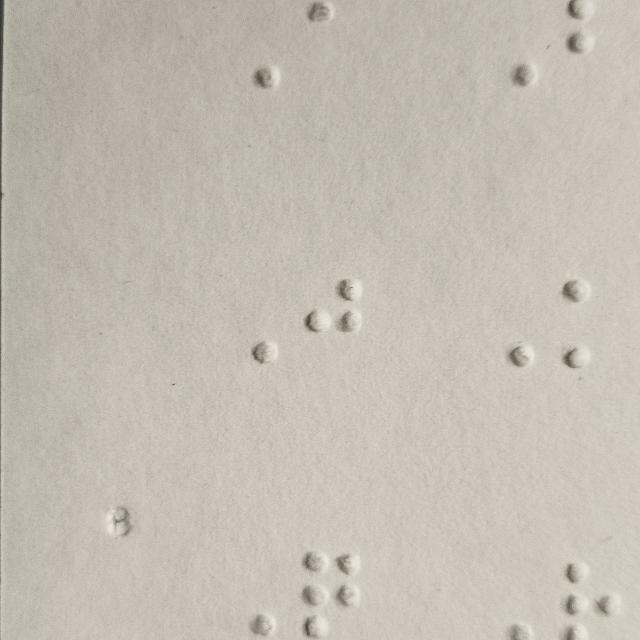capital_sign: (471, 280, 536, 372), (221, 280, 285, 372), (213, 549, 277, 640)
letter_J: (299, 276, 364, 367)
letter_K: (559, 280, 623, 371)
letter_Q: (299, 549, 364, 640)
